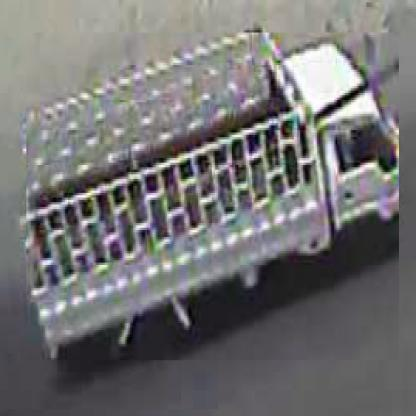truck: (26, 34, 400, 364)
